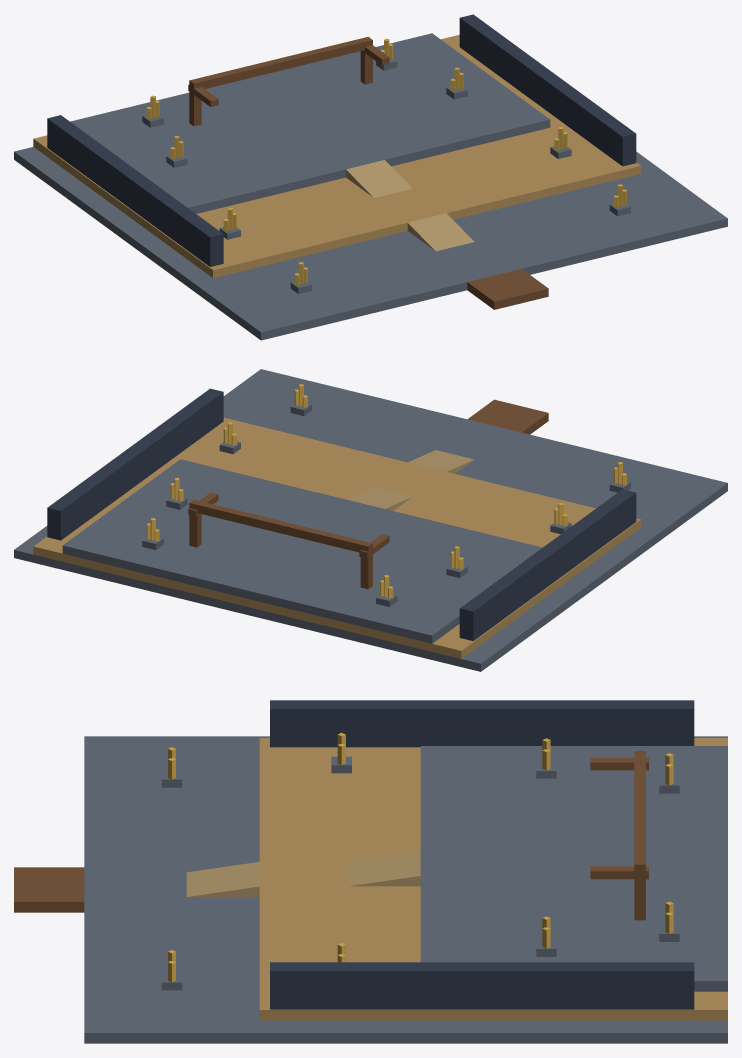
Rendered from Ironveil.glb.
3 renders of one model, top to bottom at view 1: azimuth 30°, elevation 25°; view 2: azimuth 150°, elevation 25°; view 3: azimuth 270°, elevation 25°, orthographic. The views are drawn at different scales.
Parts seen in each view (by area): view 1: UpperTerrace, Island, MidTerrace, QuarryWall.001, QuarryWall, GantryCrossbeam, Landing, QuarryAscent, SummitAscent; view 2: UpperTerrace, Island, MidTerrace, QuarryWall, QuarryWall.001, GantryCrossbeam, Landing, QuarryAscent, SummitAscent; view 3: UpperTerrace, Island, MidTerrace, QuarryWall.001, QuarryWall, Landing, SummitAscent, QuarryAscent, GantryCrossbeam, GantryBrace.001, GantryBrace.
Boxes of the visible parts, bbox=[...] form: UpperTerrace: bbox=[70, 33, 550, 213]; Island: bbox=[14, 147, 727, 340]; MidTerrace: bbox=[33, 34, 640, 278]; QuarryWall.001: bbox=[459, 14, 636, 166]; QuarryWall: bbox=[47, 115, 223, 266]; GantryCrossbeam: bbox=[189, 36, 372, 91]; Landing: bbox=[467, 269, 548, 309]; QuarryAscent: bbox=[407, 213, 474, 251]; SummitAscent: bbox=[346, 160, 412, 197]; UpperTerrace: bbox=[62, 459, 542, 643]; Island: bbox=[14, 369, 727, 671]; MidTerrace: bbox=[33, 417, 640, 658]; QuarryWall: bbox=[459, 489, 636, 640]; QuarryWall.001: bbox=[47, 388, 223, 540]; GantryCrossbeam: bbox=[189, 499, 372, 552]; Landing: bbox=[468, 399, 548, 434]; QuarryAscent: bbox=[408, 450, 474, 473]; SummitAscent: bbox=[346, 487, 412, 510]; UpperTerrace: bbox=[420, 746, 727, 991]; Island: bbox=[84, 736, 727, 1043]; MidTerrace: bbox=[259, 738, 727, 1020]; QuarryWall.001: bbox=[270, 962, 694, 1009]; QuarryWall: bbox=[270, 700, 694, 747]; Landing: bbox=[14, 867, 84, 912]; SummitAscent: bbox=[347, 851, 420, 886]; QuarryAscent: bbox=[186, 862, 259, 896]; GantryCrossbeam: bbox=[634, 751, 645, 874]; GantryBrace.001: bbox=[590, 866, 648, 879]; GantryBrace: bbox=[590, 757, 648, 770].
Bounding box in the file's own units: 240 × 33 × 244.
